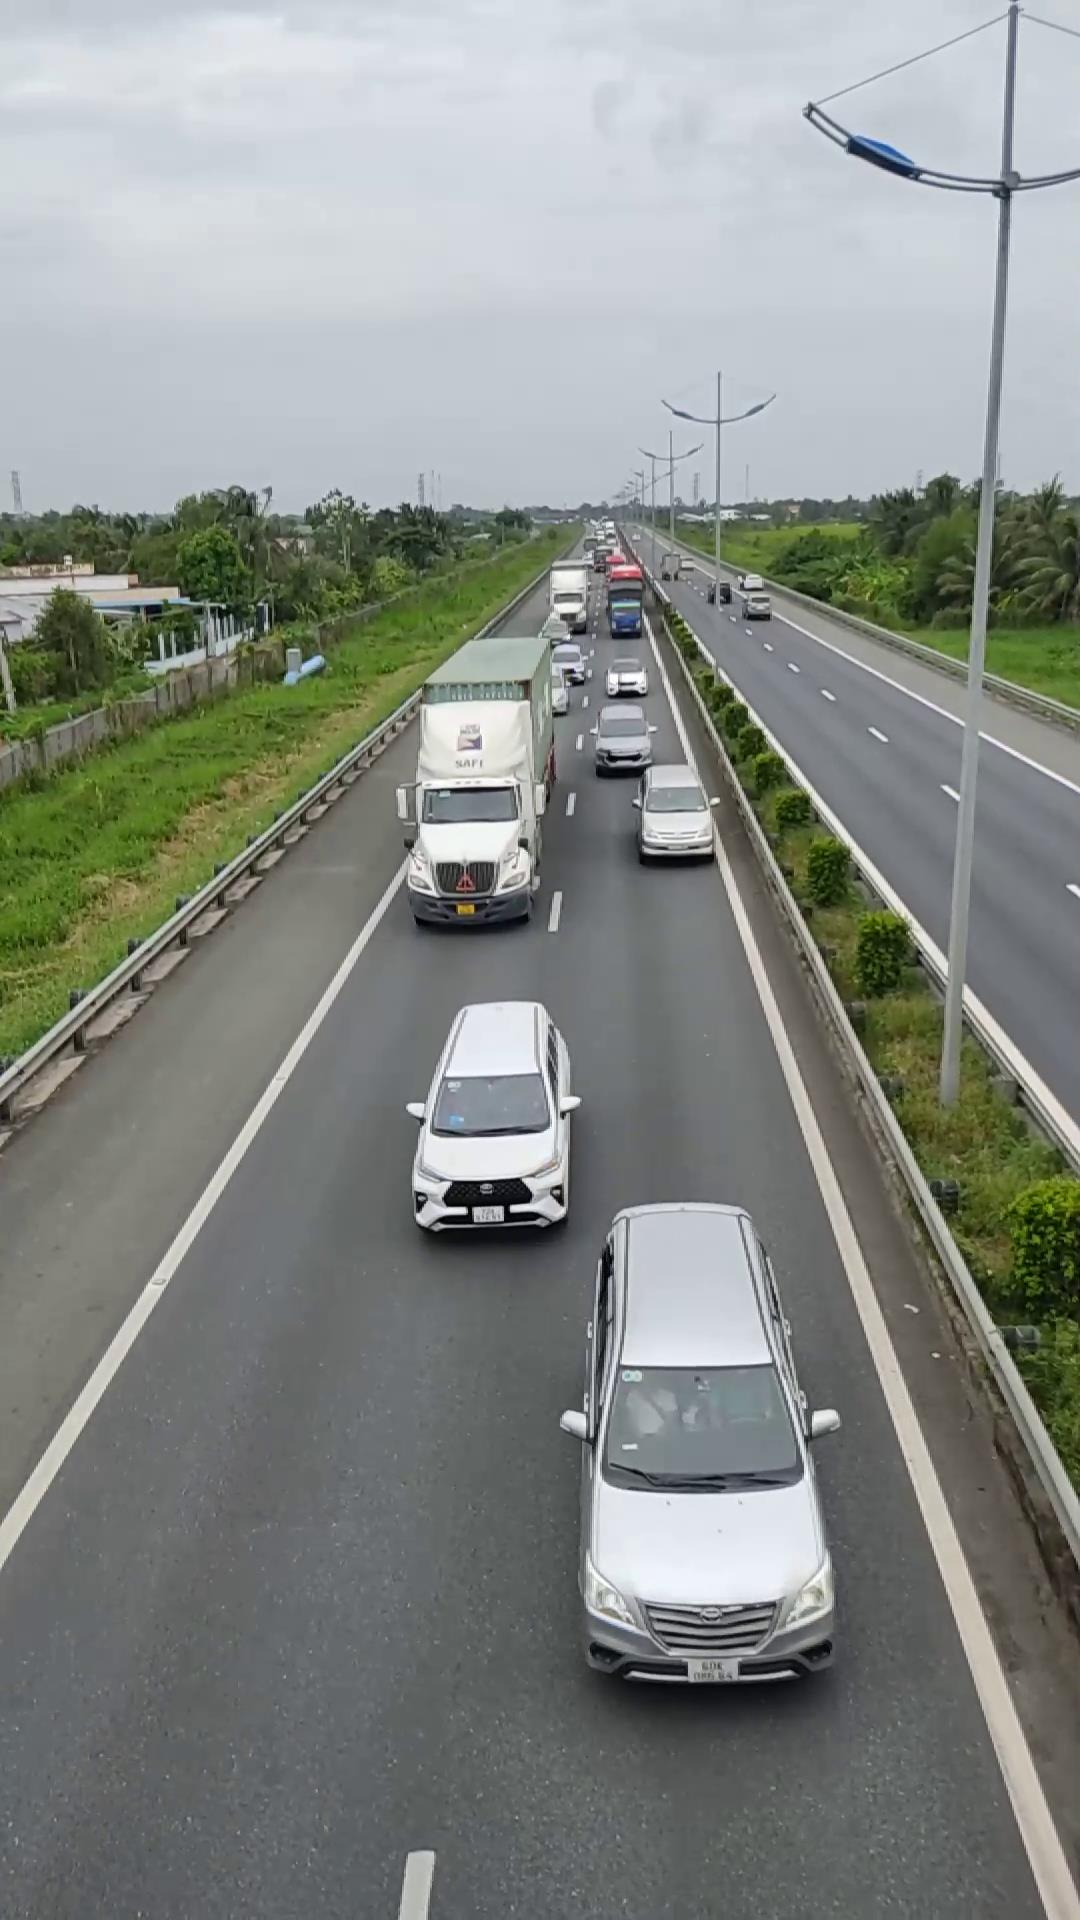car: (568, 1196, 840, 1687), (404, 997, 581, 1236), (632, 763, 718, 864), (587, 712, 656, 774)
container: (402, 633, 556, 928)
